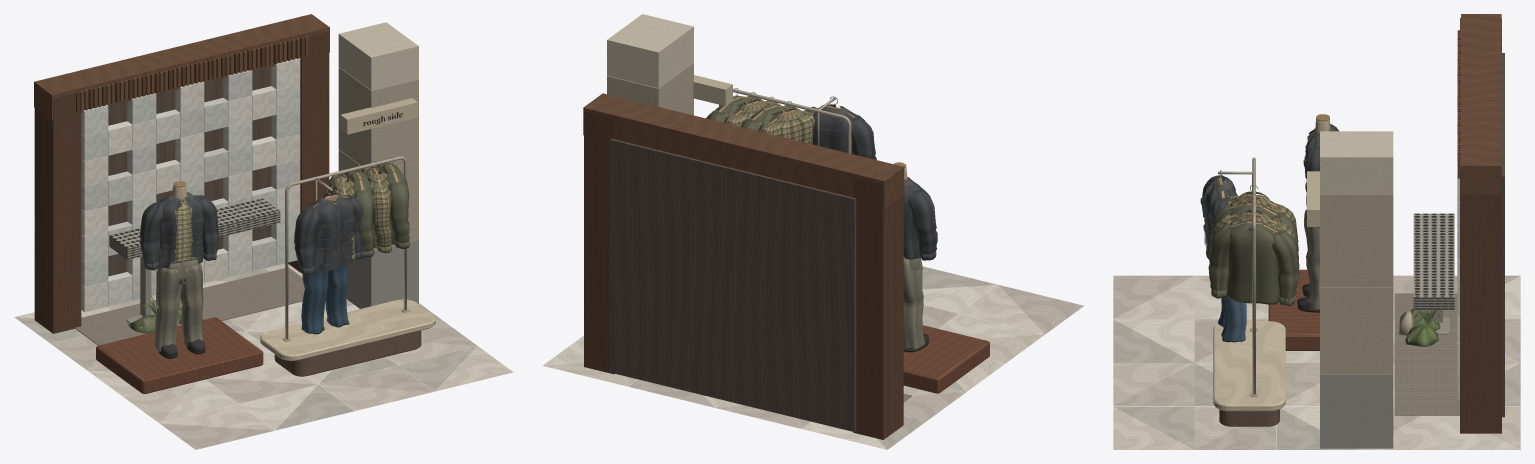
Rendered from gallery.glb.
The picture shows the model from 3 angles, left to right: view 1: azimuth 30°, elevation 25°; view 2: azimuth 150°, elevation 25°; view 3: azimuth 270°, elevation 25°; orthographic projection. The views are drawn at different scales.
Parts seen in each view (by area): view 1: RoughSideGangnamJoinery, RoughSideGangnamTailoring, RoughSideGangnamHardware; view 2: RoughSideGangnamJoinery, RoughSideGangnamTailoring, RoughSideGangnamHardware; view 3: RoughSideGangnamJoinery, RoughSideGangnamTailoring, RoughSideGangnamHardware.
Part boxes in pixels (x1,y1,x2,y2): RoughSideGangnamJoinery: [14, 14, 513, 449]; RoughSideGangnamTailoring: [139, 162, 409, 358]; RoughSideGangnamHardware: [109, 98, 418, 341]; RoughSideGangnamJoinery: [543, 14, 1083, 449]; RoughSideGangnamTailoring: [706, 95, 937, 352]; RoughSideGangnamHardware: [693, 75, 851, 153]; RoughSideGangnamJoinery: [1113, 14, 1520, 449]; RoughSideGangnamTailoring: [1200, 114, 1338, 342]; RoughSideGangnamHardware: [1218, 157, 1454, 448].
Size of the model in its own units: 3.54 by 2.76 by 3.5.
Materials: 2 (2 with a texture image).
